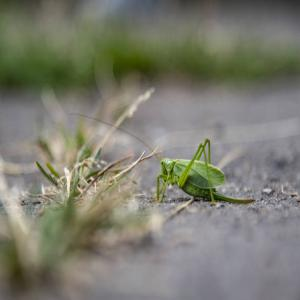locust: (108, 118, 277, 233)
